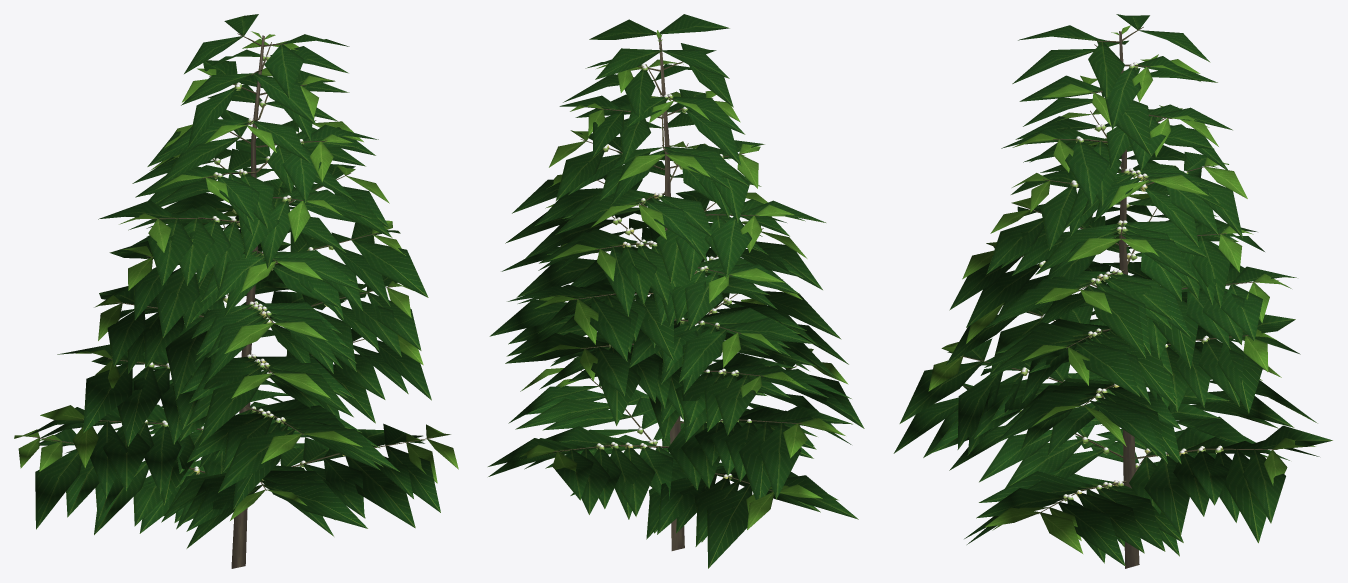
File: coffea-liberica-mature-lod2.glb
The picture shows the model from 3 angles, left to right: view 1: azimuth 30°, elevation 25°; view 2: azimuth 150°, elevation 25°; view 3: azimuth 270°, elevation 25°; orthographic projection. The views are drawn at different scales.
Visible parts, largest first — view 1: coffee_leaves, coffee_bark, coffee_cherries_green, coffee_flowers; view 2: coffee_leaves, coffee_bark, coffee_cherries_green, coffee_flowers; view 3: coffee_leaves, coffee_bark, coffee_cherries_green, coffee_flowers.
Part boxes in pixels (x1,y1,x2,y2): coffee_leaves: (14,14,458,548); coffee_bark: (33,33,433,568); coffee_cherries_green: (146,56,344,480); coffee_flowers: (145,54,313,471); coffee_leaves: (488,14,864,568); coffee_bark: (554,30,802,550); coffee_cherries_green: (596,65,751,479); coffee_flowers: (597,64,751,477); coffee_leaves: (893,14,1332,566); coffee_bark: (961,27,1277,568); coffee_cherries_green: (1019,64,1223,501); coffee_flowers: (1022,62,1221,497).
Bounding box in the file's own units: 3.2 × 4.23 × 3.08.
4 materials, 2 textured.
